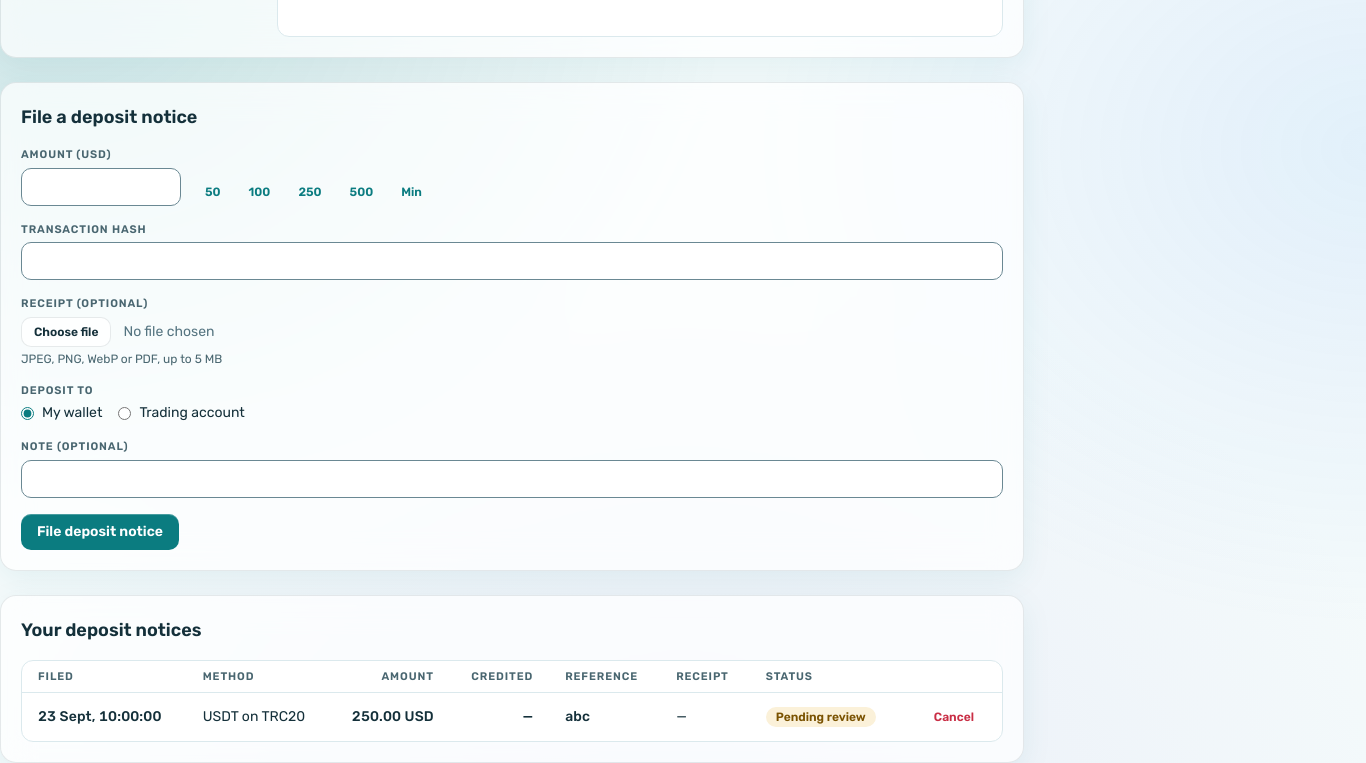
Scenario: a pending notice can be cancelled after a confirmation
(page scrolled)
What coordinates should you click on to do the following:
click the button with aria-label "Cancel deposit 1"
I would click on:
 (954, 717)
Its box is x1=922 y1=703 x2=986 y2=731.
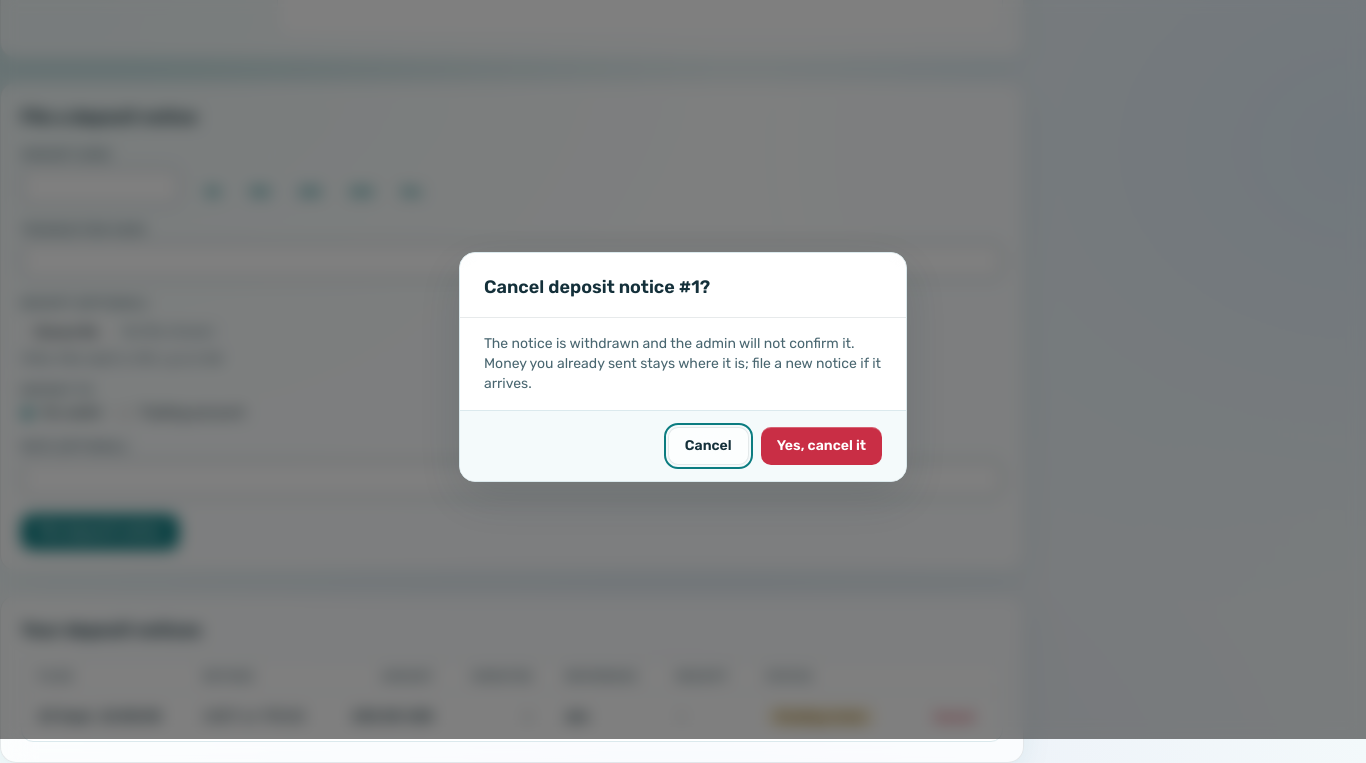
What coordinates should you click on to do the following:
click the button "Yes, cancel it"
I would click on:
 (821, 446)
Its box is x1=761 y1=427 x2=882 y2=465.
(page scrolled)
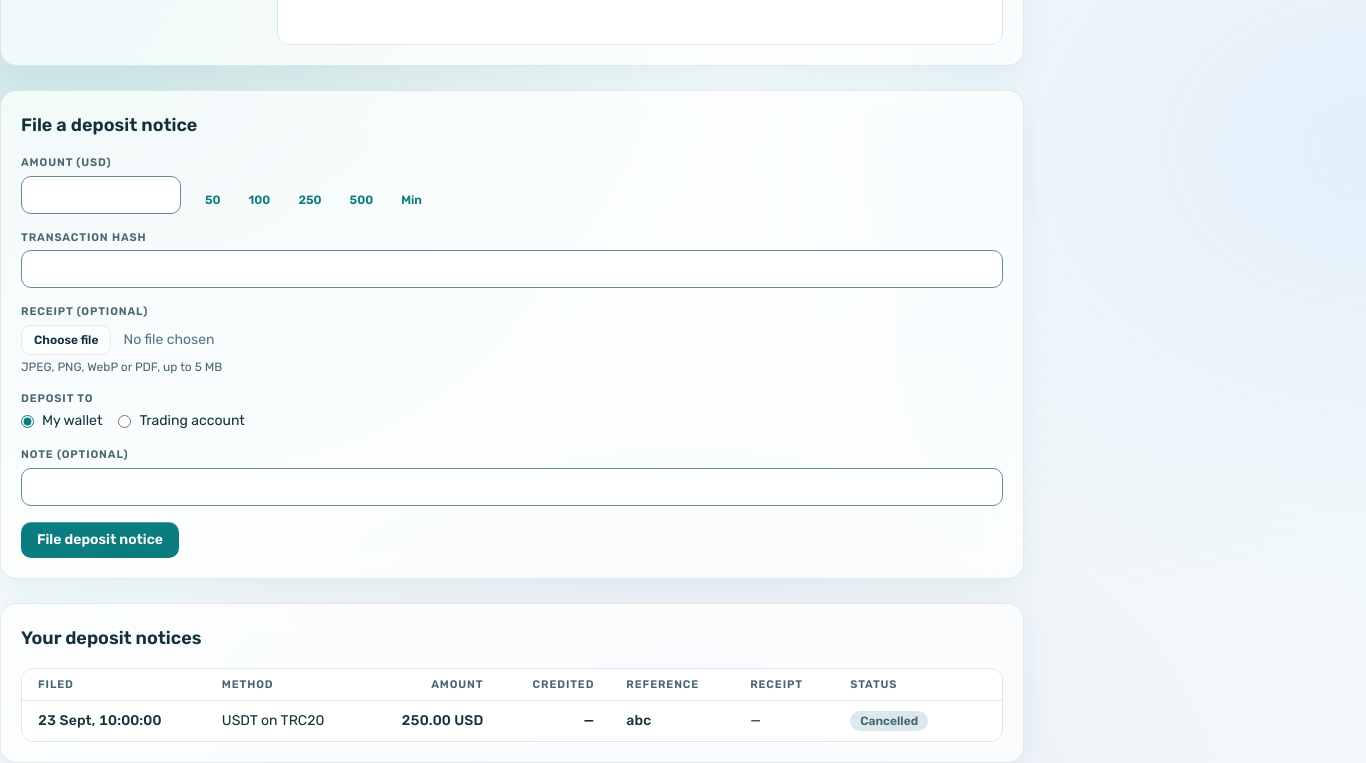
expect the text "Cancelled" is shown: met, box x1=850 y1=711 x2=928 y2=731
